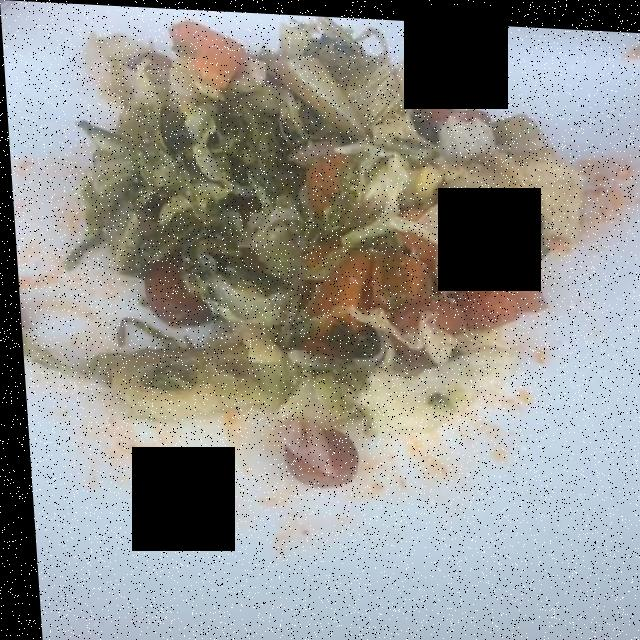mixed-vegetables: (66, 20, 633, 439)
sweet-potato: (261, 116, 545, 323)
